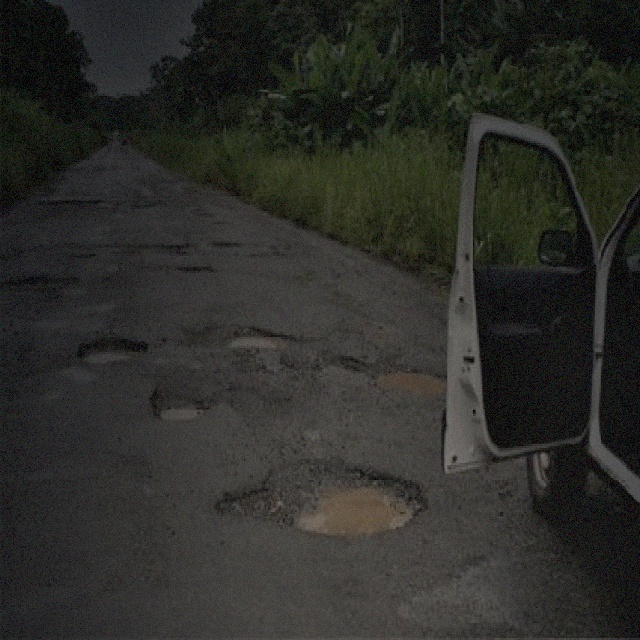pothole: (212, 452, 431, 538), (367, 356, 449, 395), (72, 333, 148, 365), (148, 386, 206, 425), (226, 324, 291, 352), (0, 268, 75, 292), (173, 258, 217, 275)
